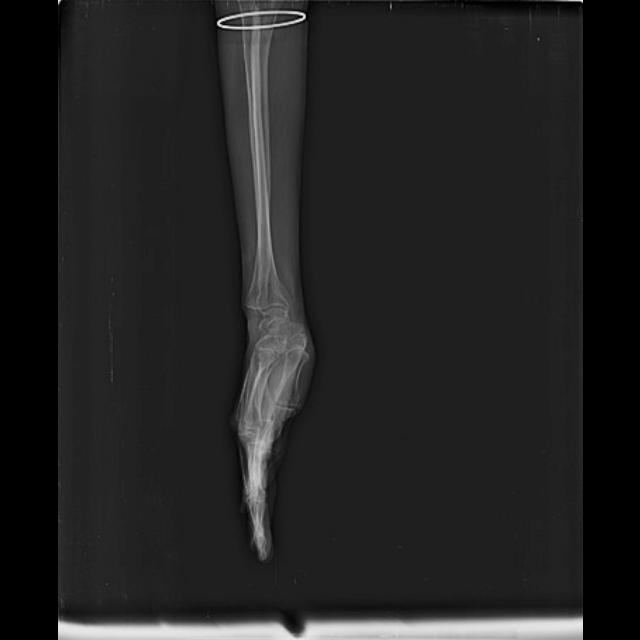Fracture: (249, 256, 299, 317), (254, 315, 310, 362)
